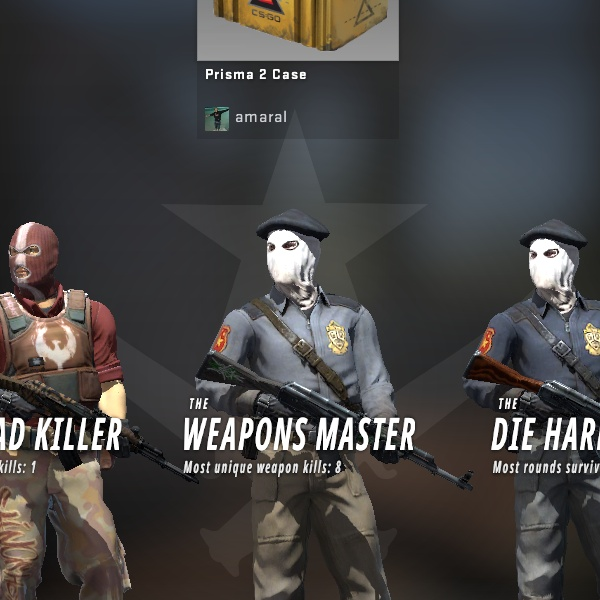t_body: (0, 194, 162, 600)
t_head: (0, 208, 89, 318)
